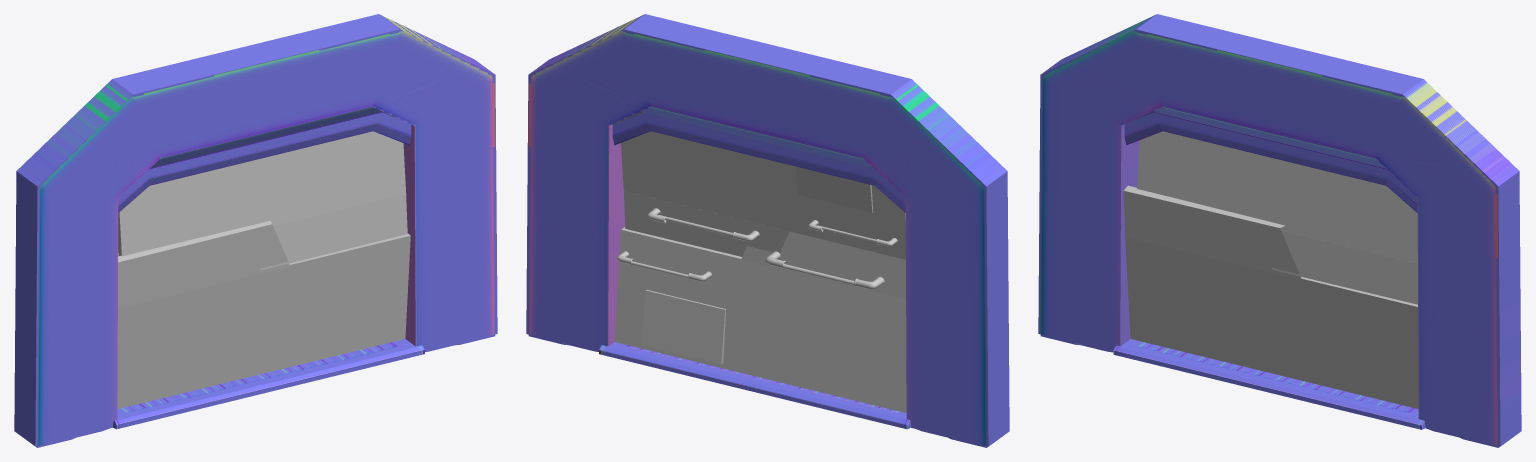
File: scifi door 2.fbx
The picture shows the model from 3 angles, left to right: view 1: azimuth 30°, elevation 25°; view 2: azimuth 150°, elevation 25°; view 3: azimuth 330°, elevation 25°; orthographic projection.
Parts seen in each view (by area): view 1: frame_col, Cube_1, Cube, panel_1, frame, base, panel; view 2: frame_col, Cube_1 (×2), Cube, frame, panel, base, panel_1, Cube_1_1; view 3: frame_col, Cube_1, Cube, panel_1, frame, base, panel.
Part boxes in pixels (x1,y1,x2,y2): frame_col: (14, 14, 497, 446); Cube_1: (117, 233, 410, 408); Cube: (118, 131, 406, 256); panel_1: (118, 221, 290, 308); frame: (36, 106, 495, 447); base: (113, 339, 424, 429); panel: (260, 193, 407, 270); frame_col: (526, 14, 1009, 446); Cube_1 (×2): (614, 166, 906, 412); Cube: (621, 131, 905, 259); frame: (528, 106, 987, 447); panel: (624, 191, 789, 256); base: (599, 342, 910, 429); panel_1: (741, 231, 905, 299); Cube_1_1: (641, 289, 725, 364); frame_col: (1038, 14, 1521, 446); Cube_1: (1125, 237, 1418, 408); Cube: (1137, 131, 1417, 263); panel_1: (1123, 185, 1301, 280); frame: (1040, 106, 1499, 447); base: (1113, 339, 1425, 429); panel: (1271, 230, 1417, 304).
Size of the model in its own units: 1981 by 1353 by 202.
